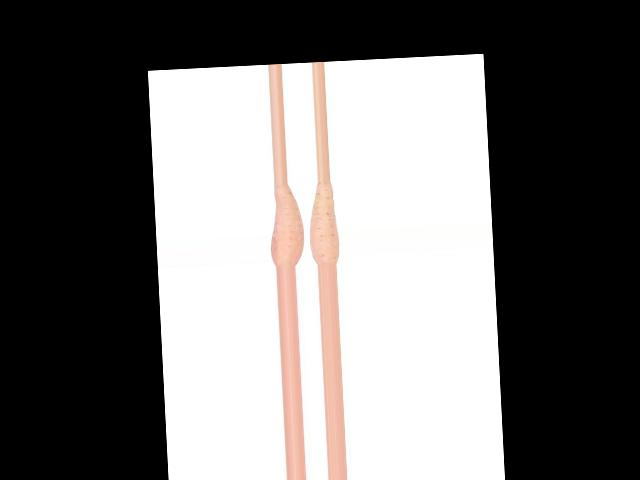sweet_potato: (306, 183, 339, 265)
